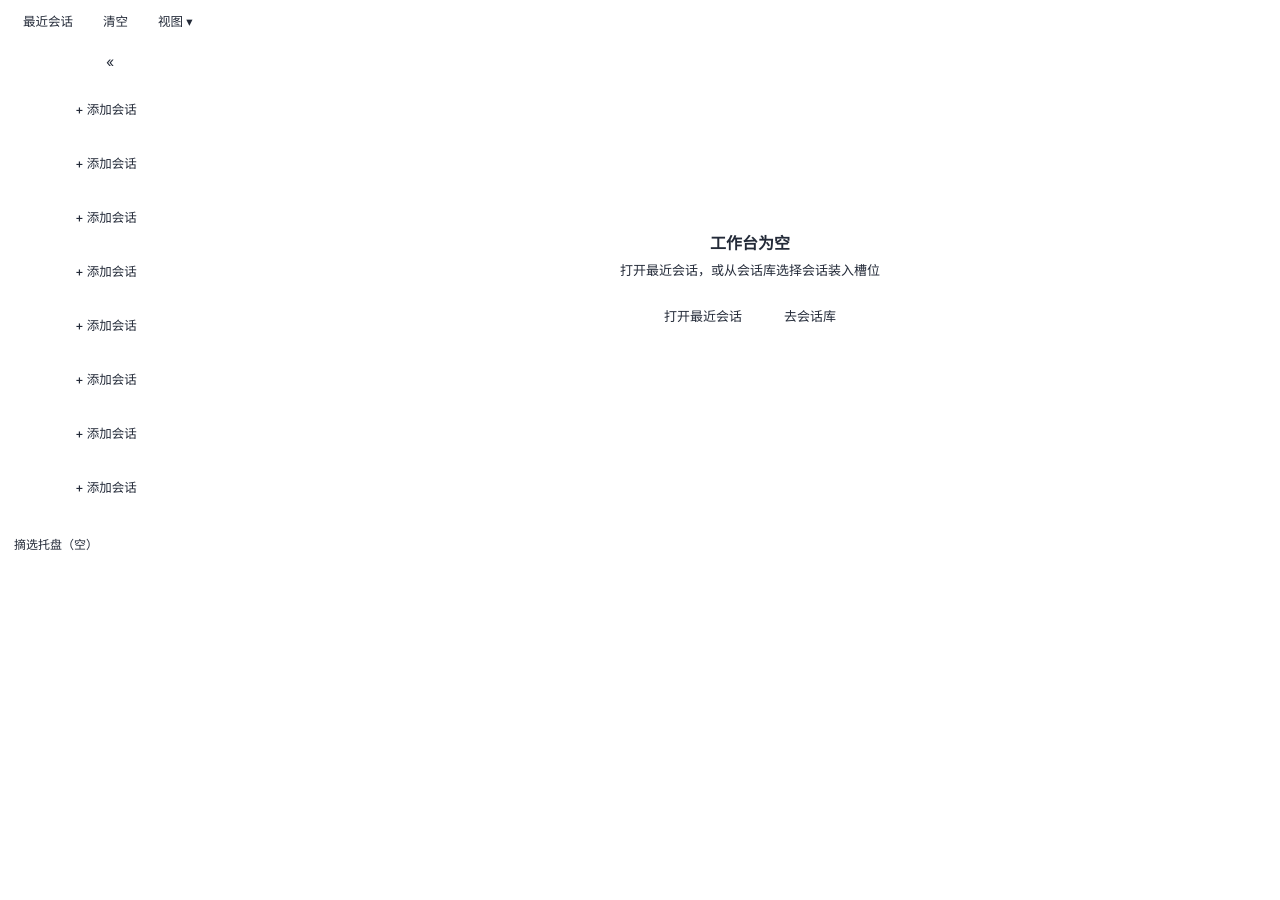
Test: WorkspaceView (t224) › recent：按日期倒序、上限 8、顺序角标、未选时确认 disabled
Click the button "最近会话" at (48, 22), box [12,8,84,37]
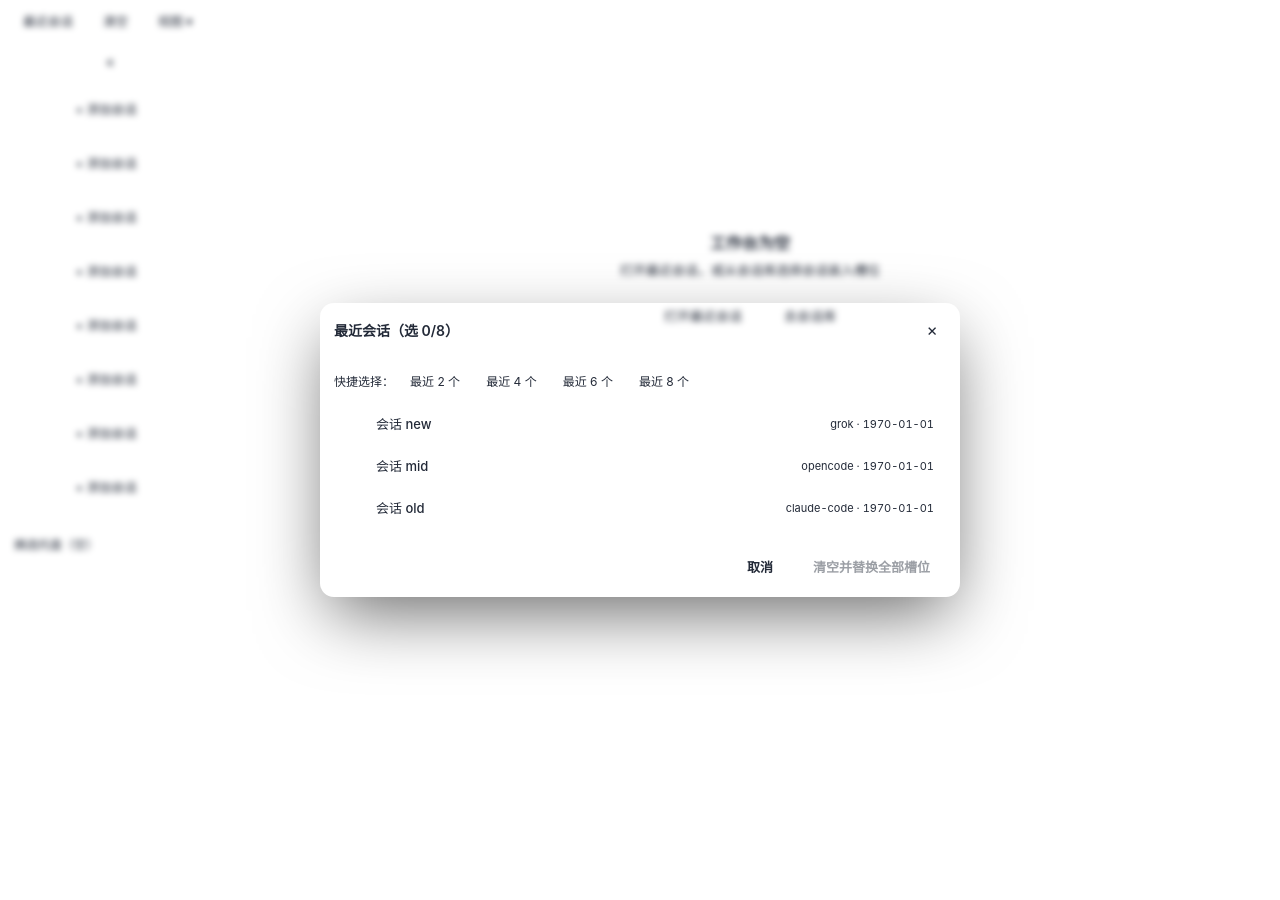
Now the dialog "最近会话" is shown, box [320,303,960,597]
Now the button "清空并替换全部槽位" is disabled, box [797,550,946,586]
Click the button with class "ws-recent-row" showing "会话 new grok · 1970-01-01" at (404, 424), box [334,405,946,443]
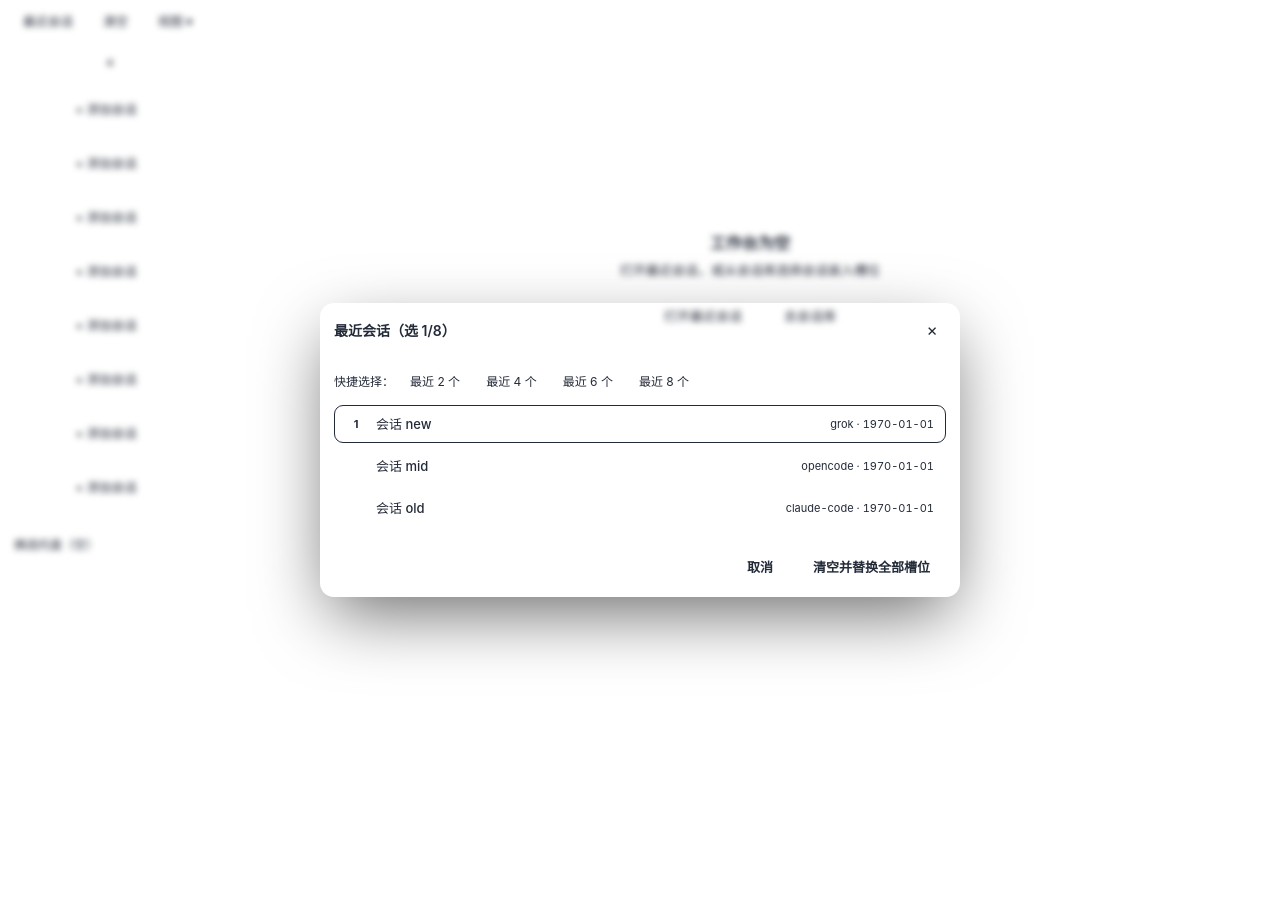
Click the button with class "ws-recent-row" showing "会话 mid opencode · 1970-01-01" at (402, 466), box [334,447,946,485]
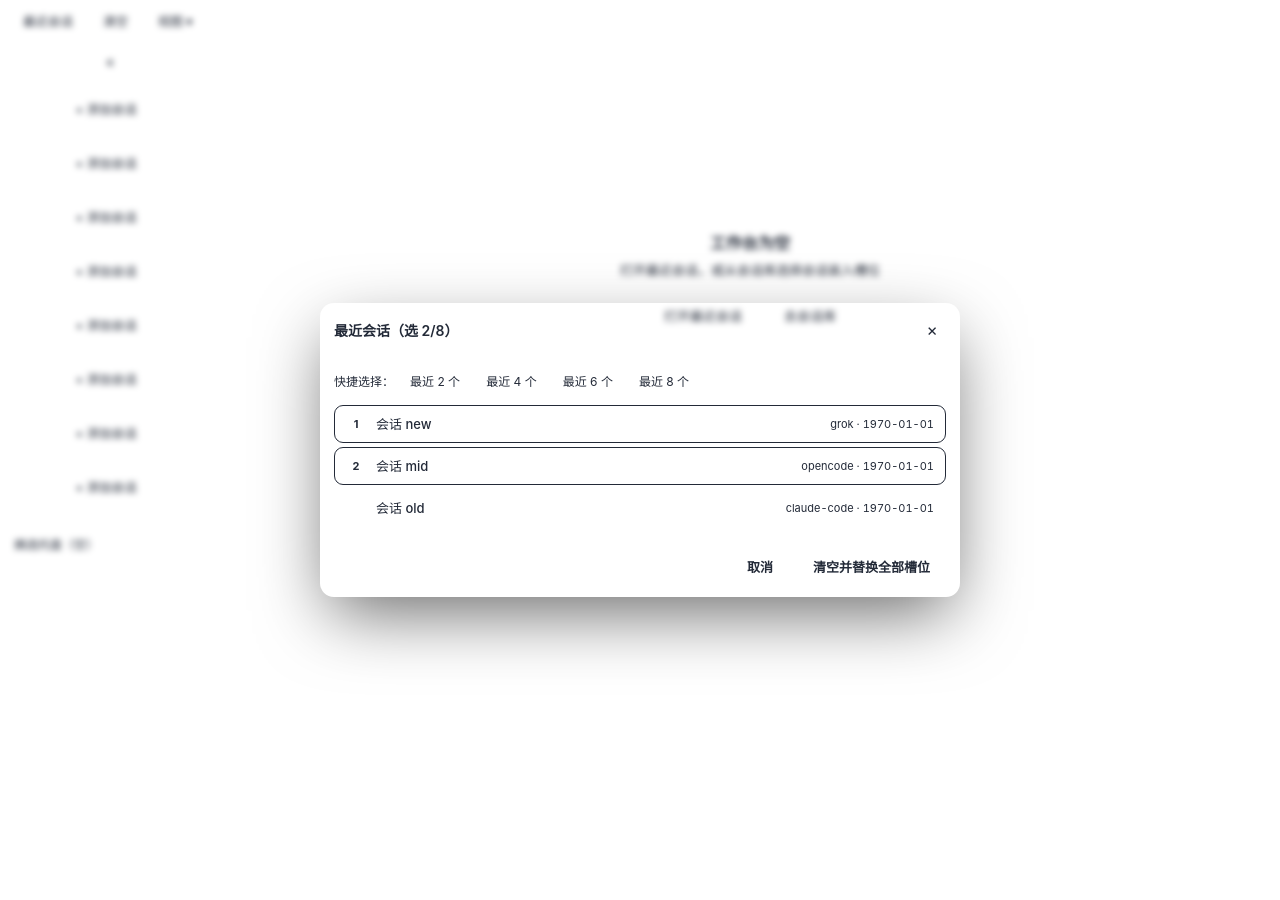
Now the text "最近会话（选 2/8）" is shown, box [334,320,458,341]
